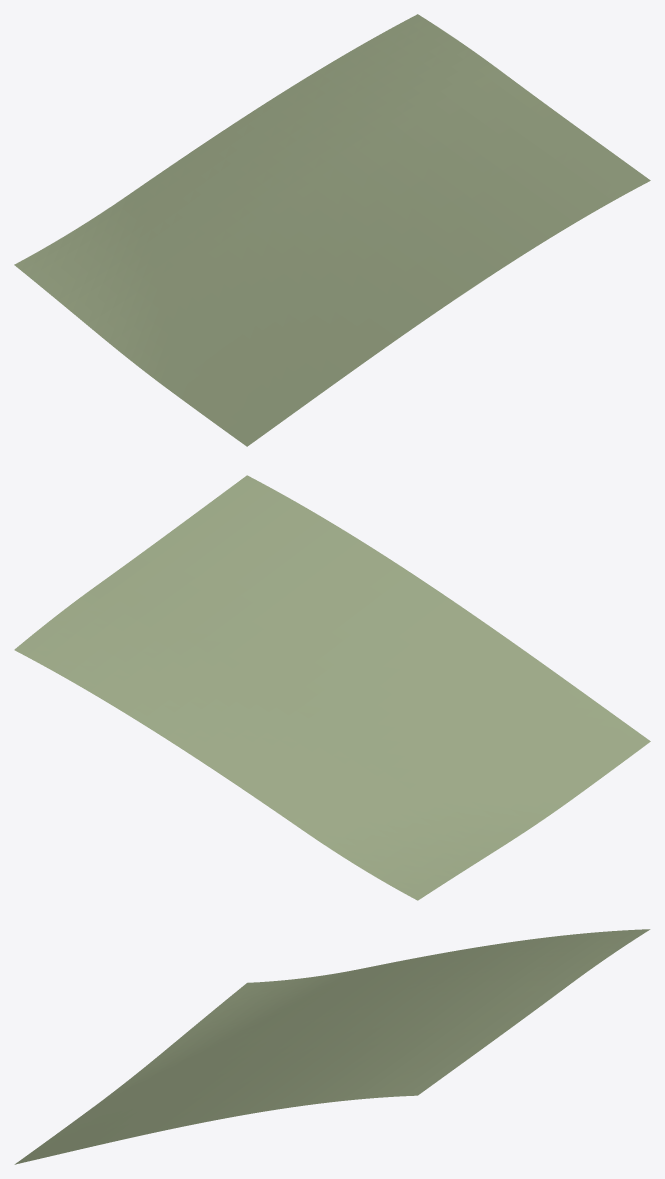
Rendered from expanse-25-7.glb.
3 views of the same model, one above another, from view 1: azimuth 30°, elevation 25°; view 2: azimuth 150°, elevation 25°; view 3: azimuth 330°, elevation 25° (orthographic).
Parts seen in each view (by area): view 1: expanse-25-7; view 2: expanse-25-7; view 3: expanse-25-7.
Boxes of the visible parts, x1,y1,x2,y2 form: expanse-25-7: (14, 14, 650, 446); expanse-25-7: (14, 475, 650, 900); expanse-25-7: (14, 929, 650, 1164).
Size of the model in its own units: 256 by 102 by 256.
